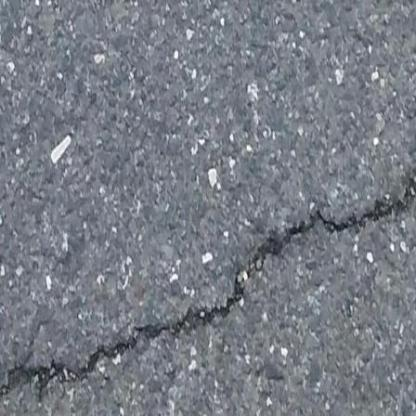Cracks: (1, 144, 416, 414)
